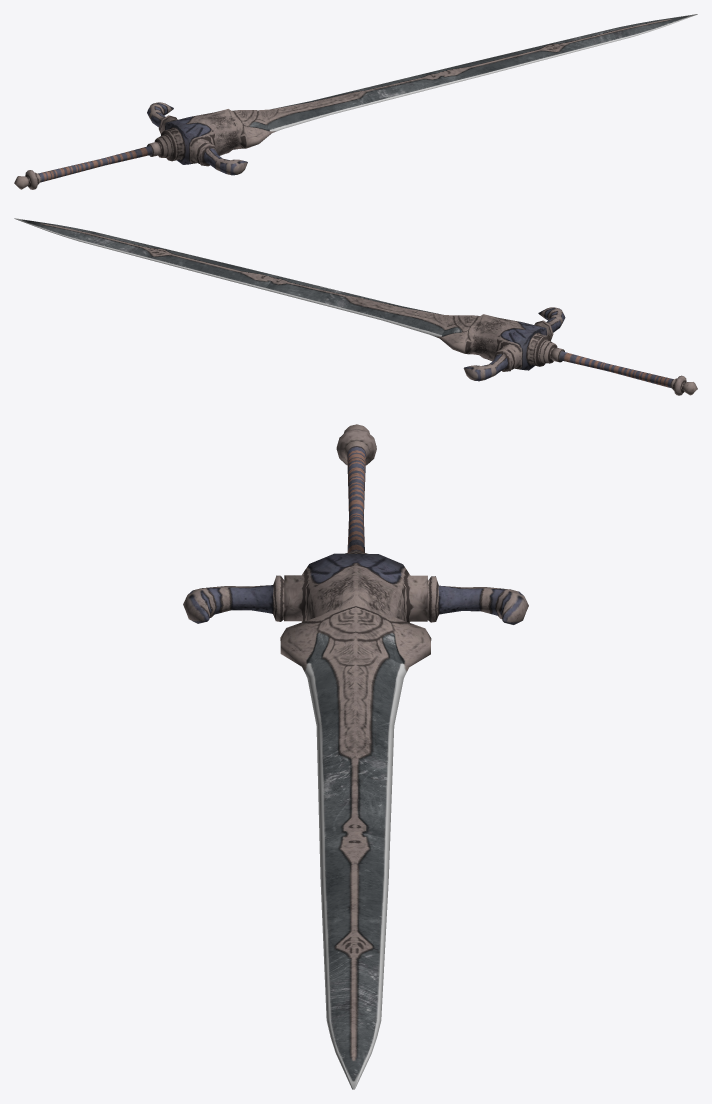
File: sword_of_artorias.glb
3 renders of one model, top to bottom at view 1: azimuth 30°, elevation 25°; view 2: azimuth 150°, elevation 25°; view 3: azimuth 270°, elevation 25°, orthographic. The views are drawn at different scales.
Parts seen in each view (by area): view 1: Object_2; view 2: Object_2; view 3: Object_2.
Part boxes in pixels (x1=…): Object_2: x1=14, y1=14, x2=697, y2=189; Object_2: x1=14, y1=218, x2=697, y2=395; Object_2: x1=183, y1=424, x2=528, y2=1089.
Bounding box in the file's own units: 24.94 × 1.55 × 5.48.
1 material, 1 textured.
